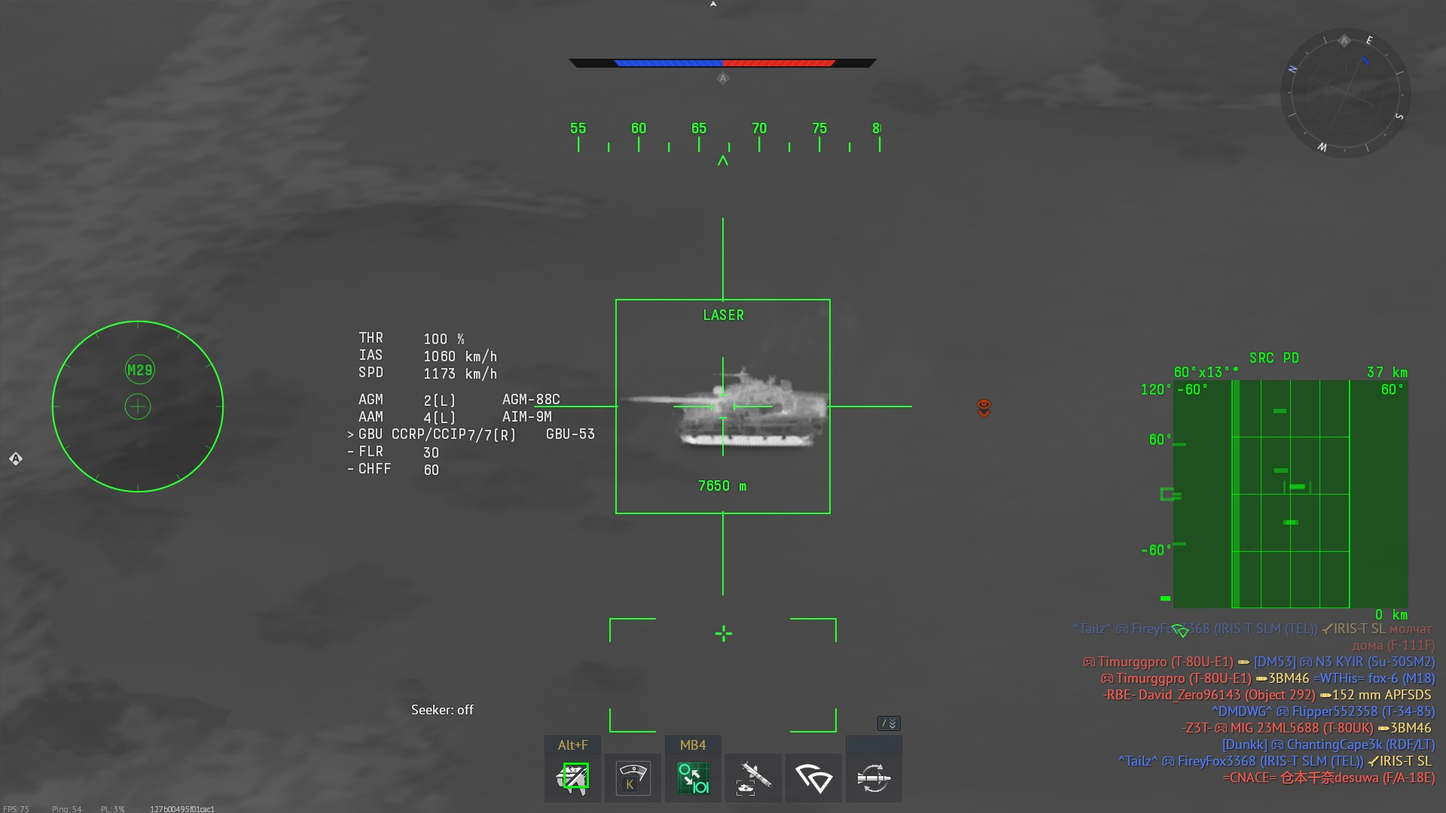t-80u: (620, 367, 827, 447)
